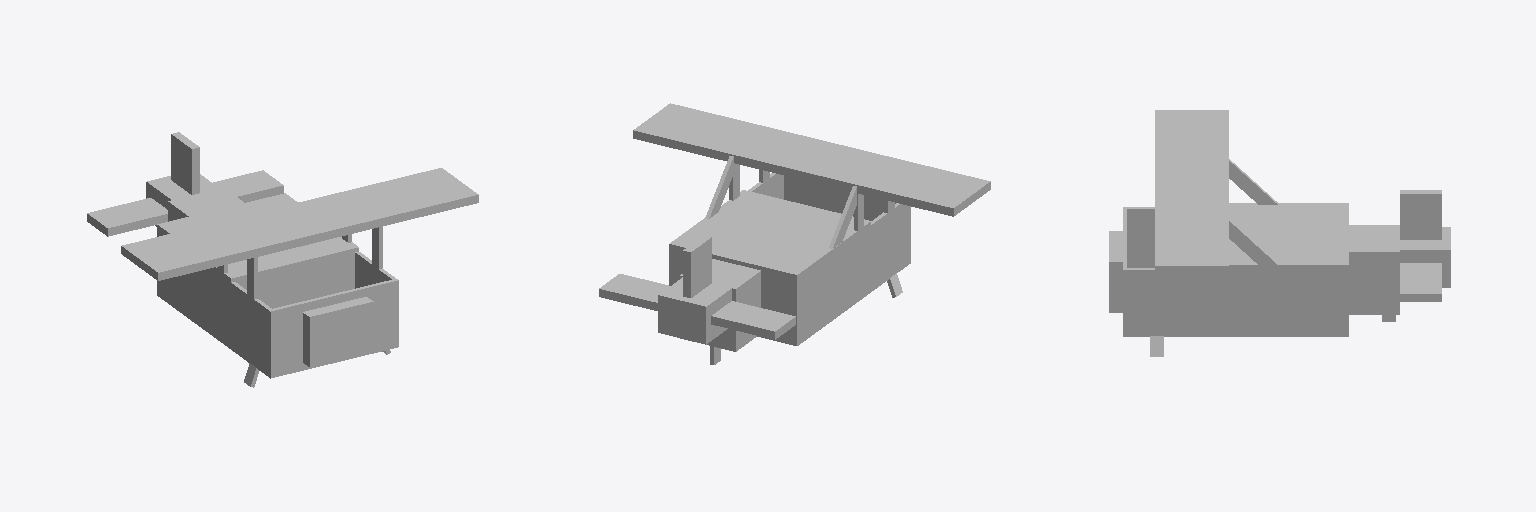
File: cargo_plane.obj
The picture shows the model from 3 angles: view 1: azimuth 30°, elevation 25°; view 2: azimuth 150°, elevation 25°; view 3: azimuth 270°, elevation 25°; orthographic projection.
Visible parts, largest first — view 1: cube; view 2: cube; view 3: cube.
Part boxes in pixels (bbox=[...]): cube: bbox=[87, 132, 478, 387]; cube: bbox=[599, 103, 990, 364]; cube: bbox=[1109, 110, 1450, 356].
Size of the model in its own units: 5 by 2.03 by 4.62.